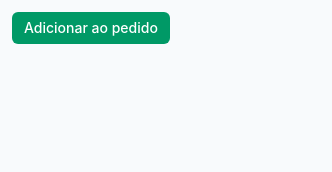
Scenario: AddToOrderButton › mostra a mensagem de erro devolvida pelo servidor
Click the button with aria-label "Adicionar CAM-01 ao pedido": (91, 28) [12,12,170,44]
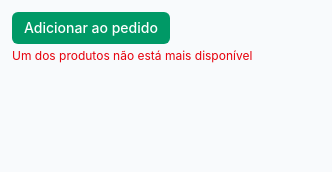
Expected: the message reads "Um dos produtos não está mais disponível", [12,48,252,63]
